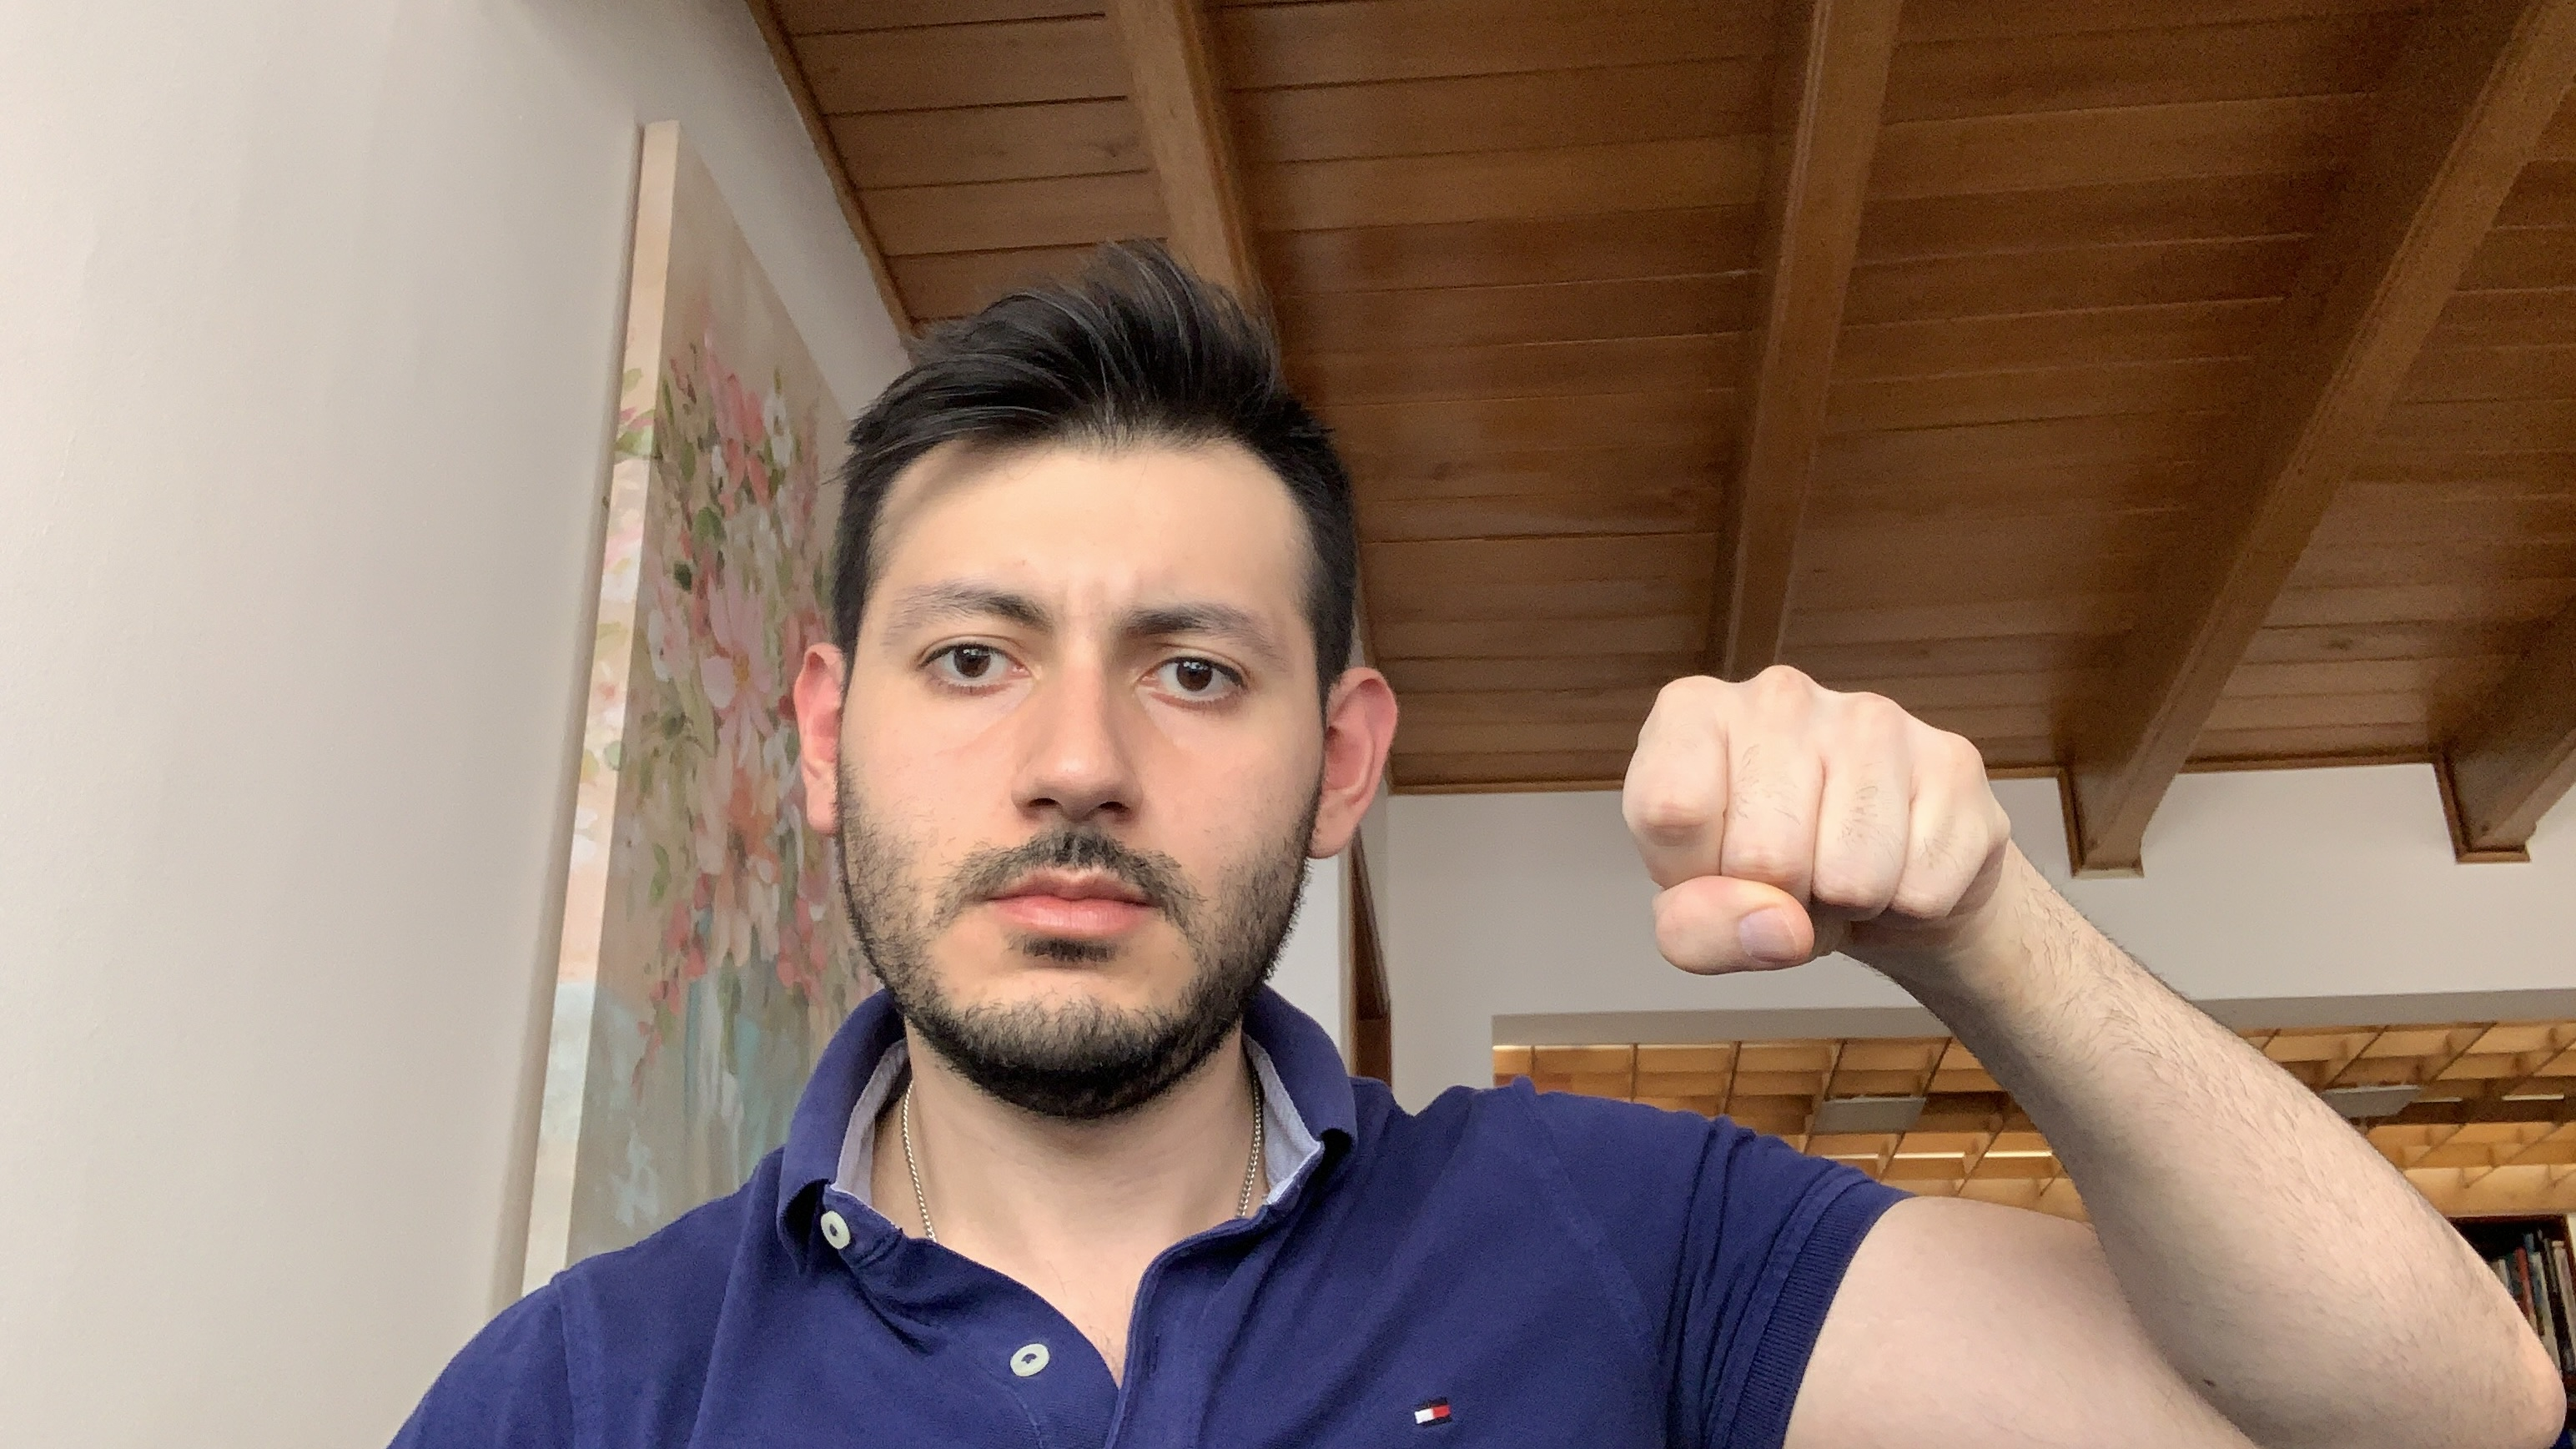Yes: (1608, 656, 2045, 991)
